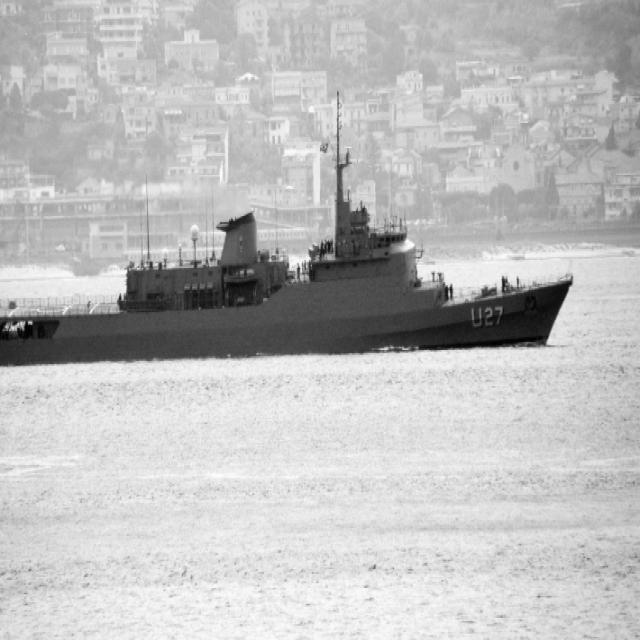Fragata: (1, 80, 587, 378)
